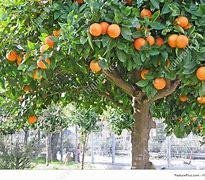orange: (134, 34, 188, 54), (87, 21, 122, 40)
